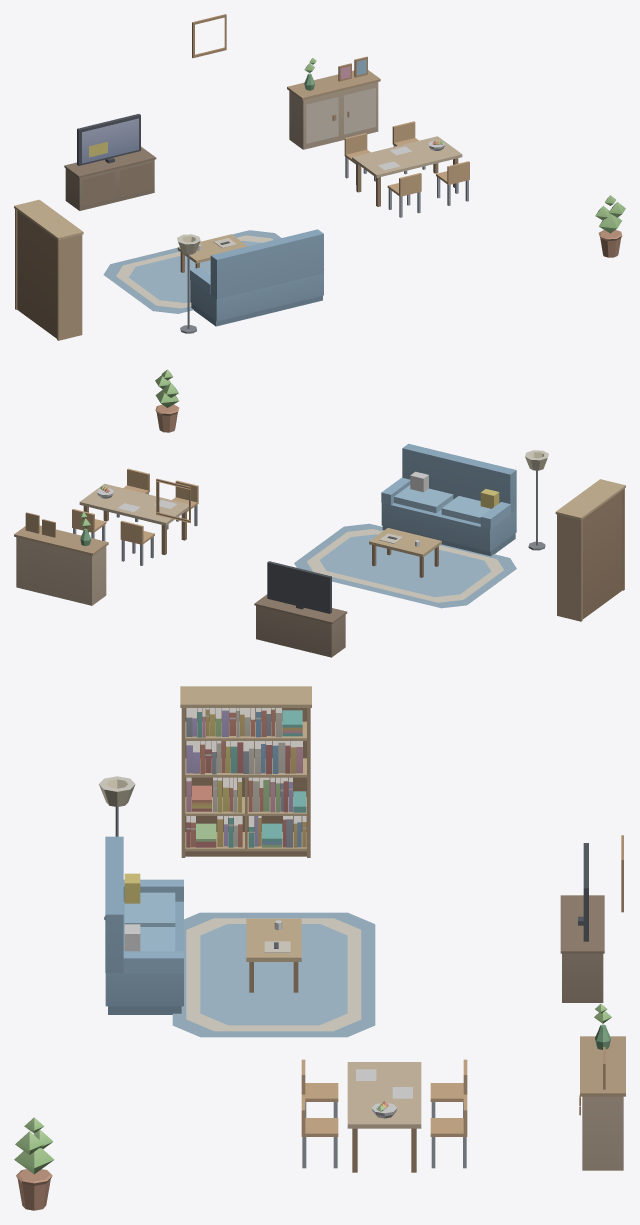
The model's file is rumah2_interior_props.glb.
3 renders of one model, top to bottom at view 1: azimuth 30°, elevation 25°; view 2: azimuth 150°, elevation 25°; view 3: azimuth 270°, elevation 25°, orthographic. The views are drawn at different scales.
Parts seen in each view (by area): view 1: sofa, rak_buku, unit_tv, kabinet, meja_makan, lalu_permaidani, pasu_1, meja_kopi, lampu_lantai; view 2: sofa, lalu_permaidani, rak_buku, kabinet, unit_tv, meja_makan, meja_kopi, pasu_1, lampu_lantai, lalu_bingkai; view 3: rak_buku, lalu_permaidani, sofa, meja_makan, kabinet, unit_tv, meja_kopi, pasu_1, lampu_lantai.
Boxes of the visible parts, bbox=[...] form: sofa: bbox=[190, 229, 323, 326]; rak_buku: bbox=[14, 199, 83, 340]; unit_tv: bbox=[64, 114, 156, 210]; kabinet: bbox=[287, 56, 380, 149]; meja_makan: bbox=[344, 121, 469, 217]; lalu_permaidani: bbox=[103, 230, 324, 313]; pasu_1: bbox=[595, 195, 625, 257]; meja_kopi: bbox=[177, 234, 247, 272]; lampu_lantai: bbox=[177, 234, 200, 333]; sofa: bbox=[381, 443, 516, 556]; lalu_permaidani: bbox=[294, 523, 516, 608]; rak_buku: bbox=[555, 479, 625, 621]; kabinet: bbox=[14, 512, 108, 605]; unit_tv: bbox=[254, 561, 347, 657]; meja_makan: bbox=[72, 468, 198, 565]; meja_kopi: bbox=[369, 528, 441, 577]; pasu_1: bbox=[155, 369, 179, 432]; lampu_lantai: bbox=[525, 450, 548, 550]; lalu_bingkai: bbox=[156, 478, 190, 522]; rak_buku: bbox=[180, 686, 311, 857]; lalu_permaidani: bbox=[172, 912, 375, 1037]; sofa: bbox=[105, 836, 183, 1014]; meja_makan: bbox=[301, 1059, 467, 1172]; kabinet: bbox=[579, 1003, 625, 1170]; unit_tv: bbox=[560, 843, 604, 1002]; meja_kopi: bbox=[246, 918, 301, 992]; pasu_1: bbox=[14, 1117, 54, 1210]; lampu_lantai: bbox=[99, 776, 135, 919].
Bounding box in the file's own units: 9.65 × 2.52 × 6.64.
